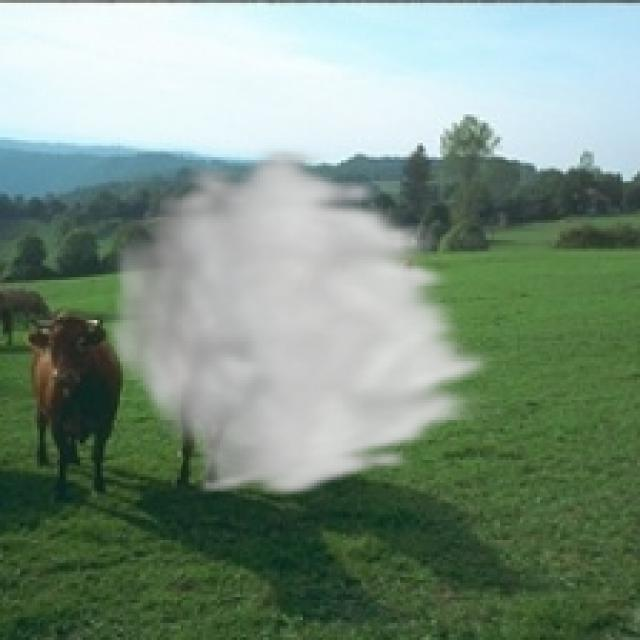Smoke: (100, 143, 506, 500)
